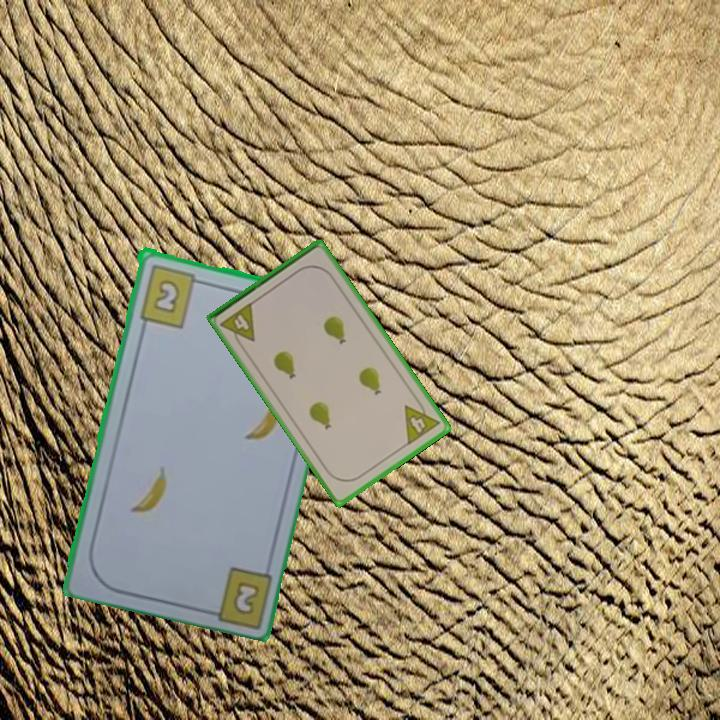2b: (136, 260, 207, 330), (229, 577, 262, 618)
4p: (401, 394, 443, 448), (217, 299, 258, 351)
